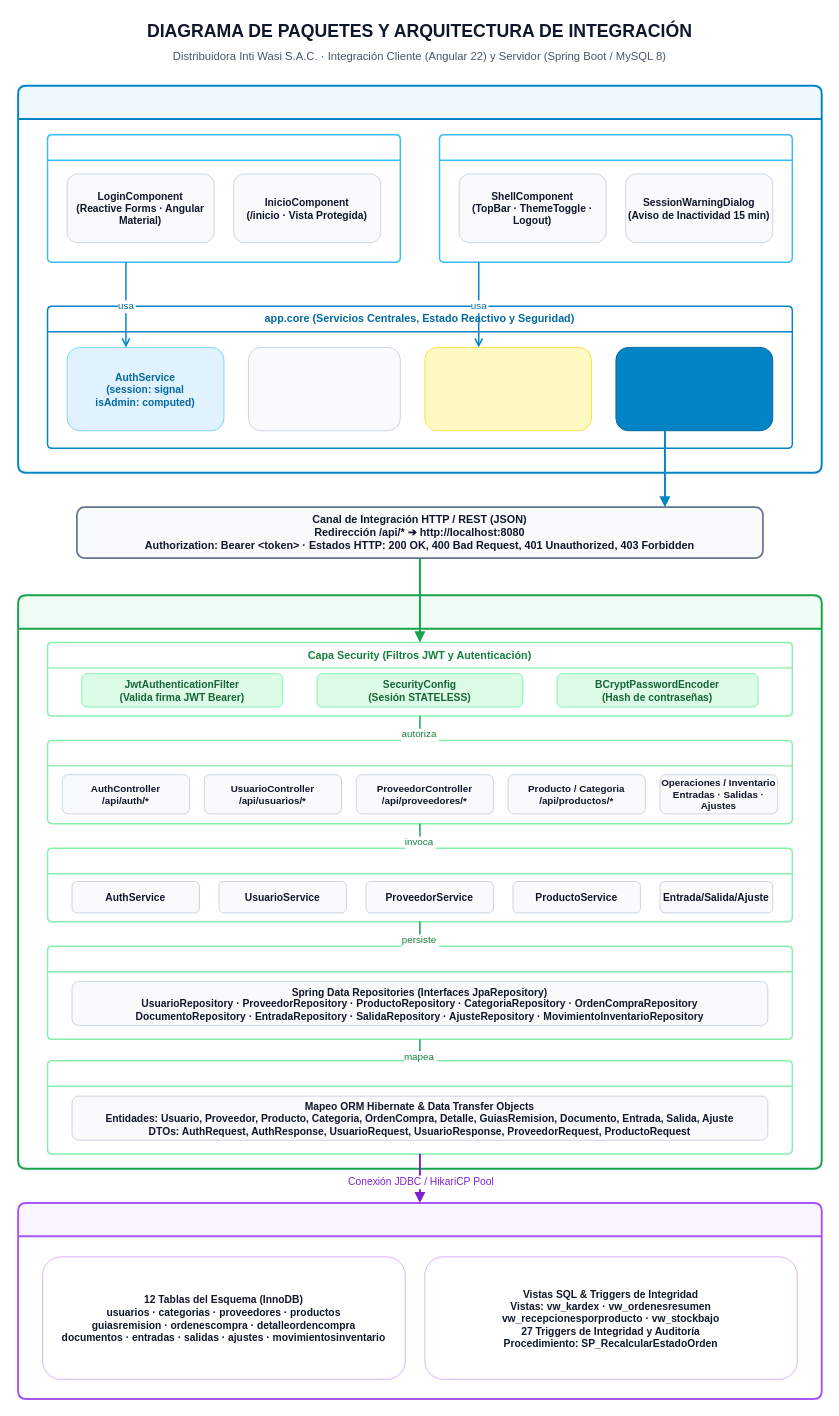
The diagram is 839 pixels wide and 1416 high, and some of its shapes have lost their labels. Here are the shapes that lost their labels. From the top down, the box of each, then its label:
(46, 134, 401, 262): app.features (Vistas y Formularios)
(438, 134, 793, 262): app.layout & app.shared (Estructura y Diálogos)
(17, 84, 822, 473): CLIENTE WEB · ANGULAR 22 (Frontend)
(247, 346, 400, 431): Guards Funcionales (authGuard guestGuard)
(424, 346, 591, 431): sessionStorage ('intiwasi.session' JWT Token · Rol · Expiración)
(615, 346, 773, 431): authInterceptor (HttpInterceptorFn Inyecta: Bearer Token)
(46, 739, 793, 824): Capa Controller (API Endpoints @RestController)
(17, 594, 822, 1169): SERVIDOR BACKEND · SPRING BOOT / REST API
(46, 847, 793, 922): Capa Service (Reglas de Negocio & Transacciones @Service)
(46, 945, 793, 1040): Capa Repository (Acceso a Datos Spring Data JPA)
(46, 1060, 793, 1154): Capa Entity & DTO (Entidades JPA y Objetos de Transferencia)
(17, 1201, 822, 1399): SERVIDOR DE BASE DE DATOS · MYSQL 8 (bd_intiwasi)
